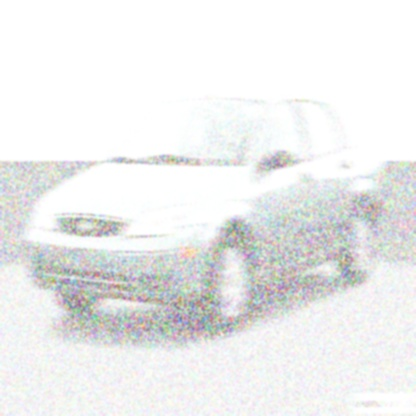Vehicle: (25, 90, 389, 334)
